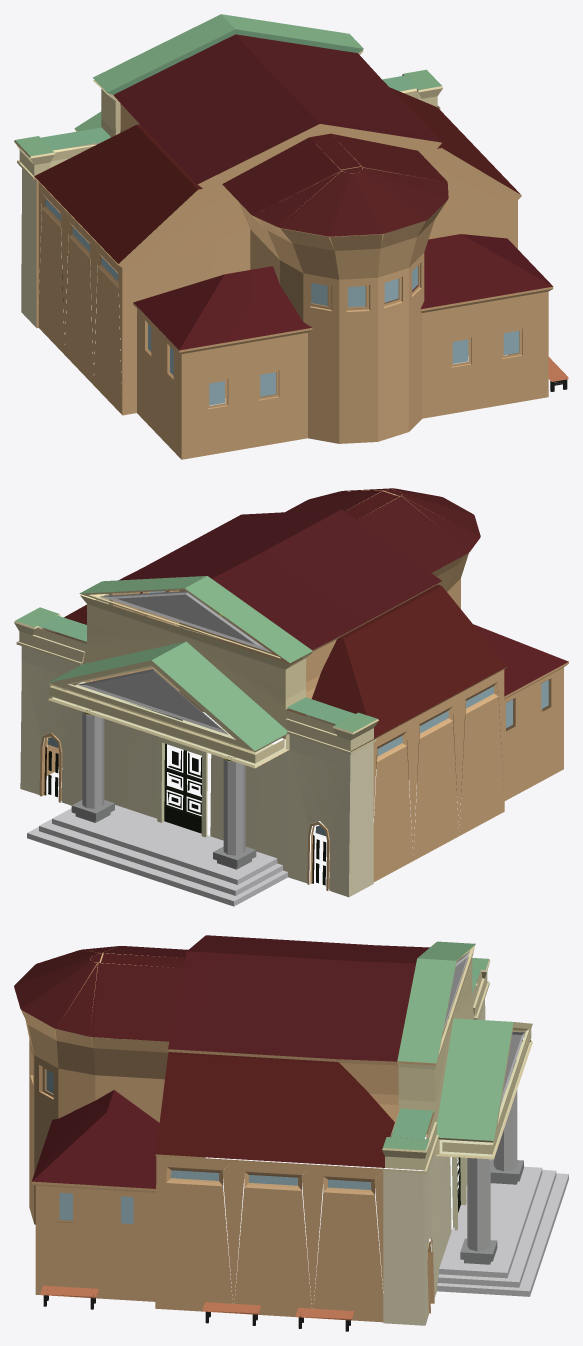
The model's file is public.glb.
3 views of the same model, one above another, from view 1: azimuth 30°, elevation 25°; view 2: azimuth 150°, elevation 25°; view 3: azimuth 270°, elevation 25° (orthographic). The views are drawn at different scales.
Parts seen in each view (by area): view 1: public building; view 2: public building; view 3: public building.
Boxes of the visible parts, left/top/right/bottom form: public building: left=14, top=14, right=568, bottom=459; public building: left=14, top=488, right=568, bottom=906; public building: left=14, top=935, right=568, bottom=1331.
Bounding box in the file's own units: 202 × 123 × 227.
3 materials, 3 textured.
